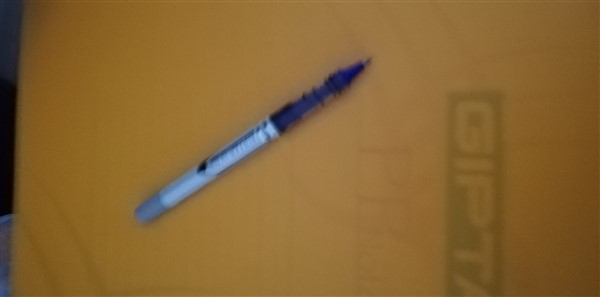pilot kalem: (130, 53, 374, 229)
